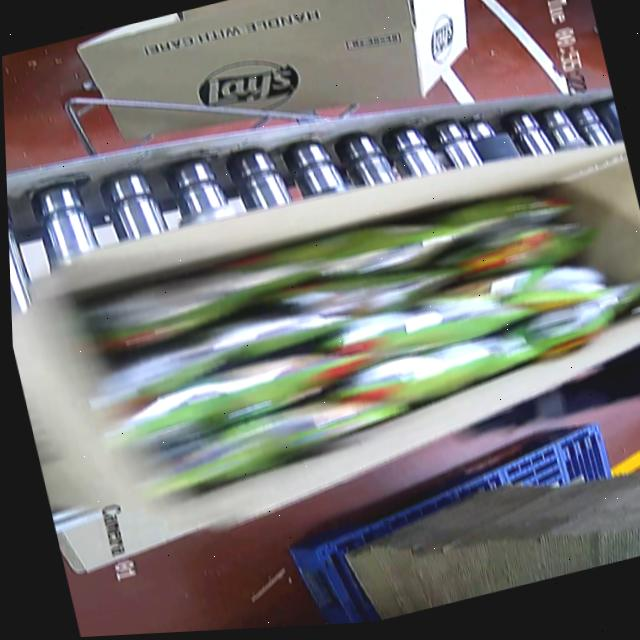YOGURT_HERB: (53, 157, 640, 519)
